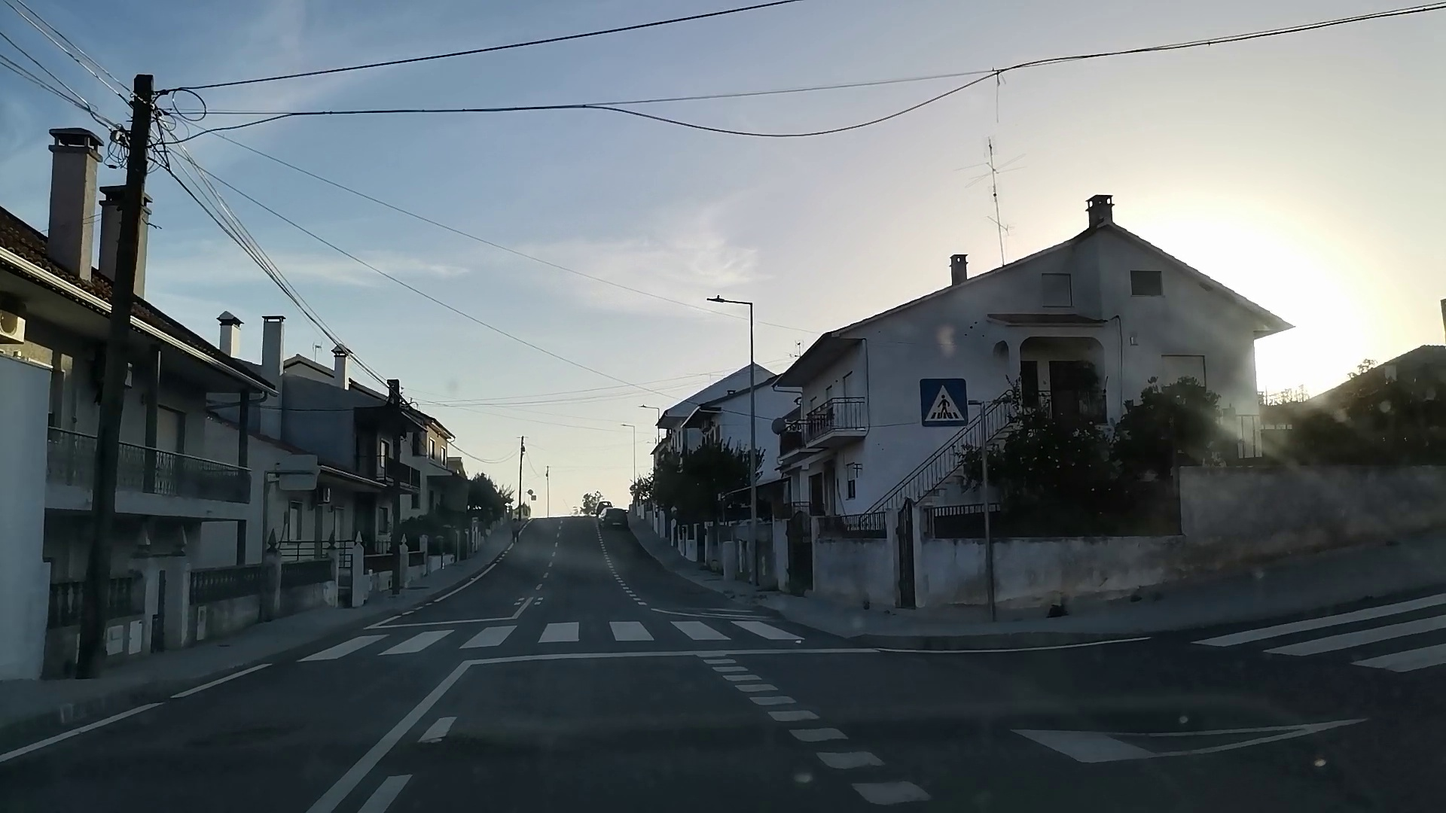Stairs: (299, 615, 806, 665)
